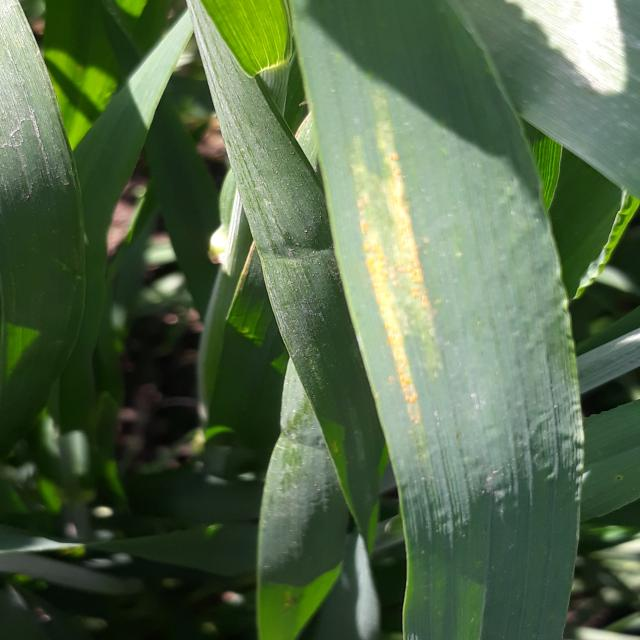yellow_rust: (270, 0, 593, 471), (208, 205, 264, 356), (263, 579, 316, 620)
